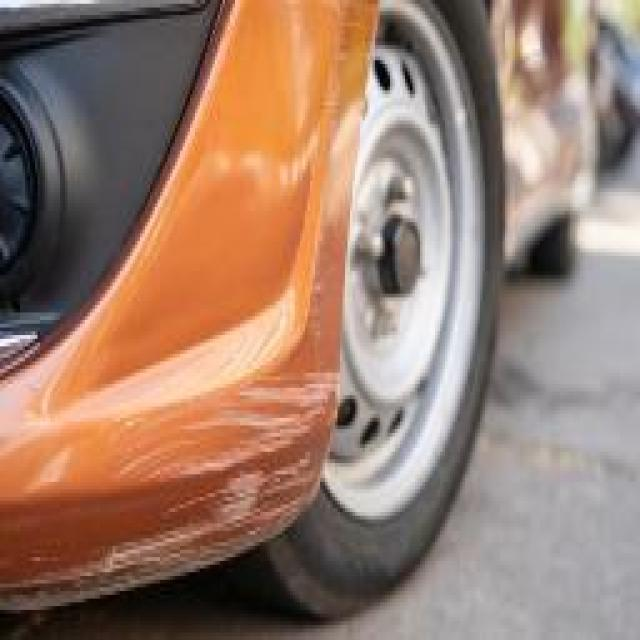Bumper: (102, 15, 332, 576)
